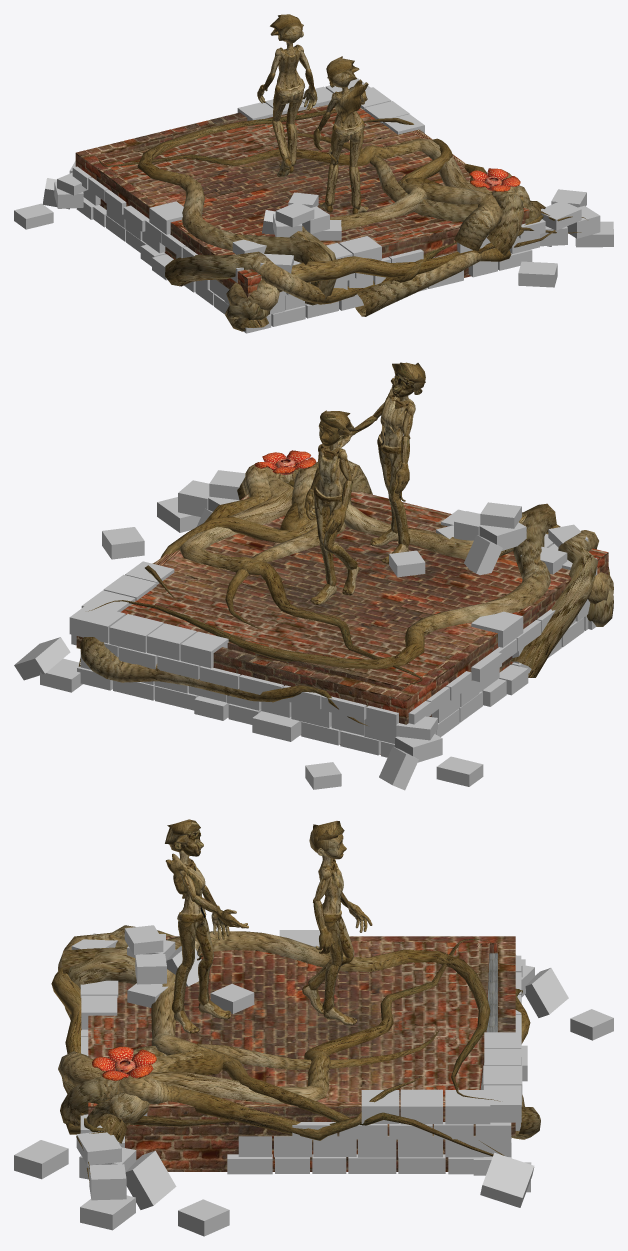
File: Statue1.fbx
3 renders of one model, top to bottom at view 1: azimuth 30°, elevation 25°; view 2: azimuth 150°, elevation 25°; view 3: azimuth 270°, elevation 25°, orthographic. The views are drawn at different scales.
Visible parts, largest first — view 1: vines, socle, Wall.002, Ego_Plane.006_PantalonJean.002, Ego_Plane.006_PantalonJean.003, Ego_Plane.006_Material.001, Ego_Plane.006_Bras.003, Cheveux_Sphere_Material.001, Cheveux_Sphere_Material.002, armure, Ego_Plane.006_Material.002, Ego_Plane.006_Bras.002; view 2: Wall.002, socle, vines, Ego_Plane.006_PantalonJean.003, Ego_Plane.006_PantalonJean.002, Ego_Plane.006_Bras.003, Ego_Plane.006_Material.001, Ego_Plane.006_Bras.002, Ego_Plane.006_Material.002, armure, Ego_Plane.006_Chaussures.003, Cheveux_Sphere_Material.002 (+1 smaller); view 3: socle, Wall.002, vines, Ego_Plane.006_PantalonJean.002, Ego_Plane.006_PantalonJean.003, Ego_Plane.006_Bras.003, Ego_Plane.006_Bras.002, Ego_Plane.006_Material.001, armure, Cheveux_Sphere_Material.002, Ego_Plane.006_Material.002, Ego_Plane.006_Chaussures.002 (+2 smaller).
Part boxes in pixels (x1,y1,x2,y2): vines: [97, 96, 586, 331]; socle: [75, 105, 529, 297]; Wall.002: [14, 78, 613, 333]; Ego_Plane.006_PantalonJean.002: [325, 128, 363, 209]; Ego_Plane.006_PantalonJean.003: [272, 89, 303, 166]; Ego_Plane.006_Material.001: [275, 42, 304, 96]; Ego_Plane.006_Bras.003: [257, 45, 317, 110]; Cheveux_Sphere_Material.001: [326, 56, 359, 87]; Cheveux_Sphere_Material.002: [270, 14, 303, 43]; armure: [335, 79, 368, 122]; Ego_Plane.006_Material.002: [332, 87, 364, 135]; Ego_Plane.006_Bras.002: [313, 88, 366, 150]; Wall.002: [14, 470, 597, 790]; socle: [76, 491, 608, 754]; vines: [78, 460, 613, 725]; Ego_Plane.006_PantalonJean.003: [314, 494, 357, 586]; Ego_Plane.006_PantalonJean.002: [378, 446, 410, 547]; Ego_Plane.006_Bras.003: [304, 444, 352, 534]; Ego_Plane.006_Material.001: [313, 441, 345, 501]; Ego_Plane.006_Bras.002: [338, 395, 414, 494]; Ego_Plane.006_Material.002: [377, 394, 414, 453]; armure: [380, 378, 415, 433]; Ego_Plane.006_Chaussures.003: [310, 565, 359, 604]; Cheveux_Sphere_Material.002: [320, 410, 355, 437]; socle: [88, 936, 515, 1171]; Wall.002: [14, 925, 613, 1236]; vines: [51, 925, 540, 1182]; Ego_Plane.006_PantalonJean.002: [171, 917, 213, 1014]; Ego_Plane.006_PantalonJean.003: [308, 917, 354, 1012]; Ego_Plane.006_Bras.003: [313, 859, 372, 954]; Ego_Plane.006_Bras.002: [179, 860, 248, 939]; Ego_Plane.006_Material.001: [318, 853, 343, 923]; armure: [165, 853, 205, 898]; Cheveux_Sphere_Material.002: [309, 821, 344, 852]; Ego_Plane.006_Material.002: [177, 850, 206, 922]; Ego_Plane.006_Chaussures.002: [174, 999, 231, 1033].
Size of the model in its own units: 3300 by 1600 by 3123.
